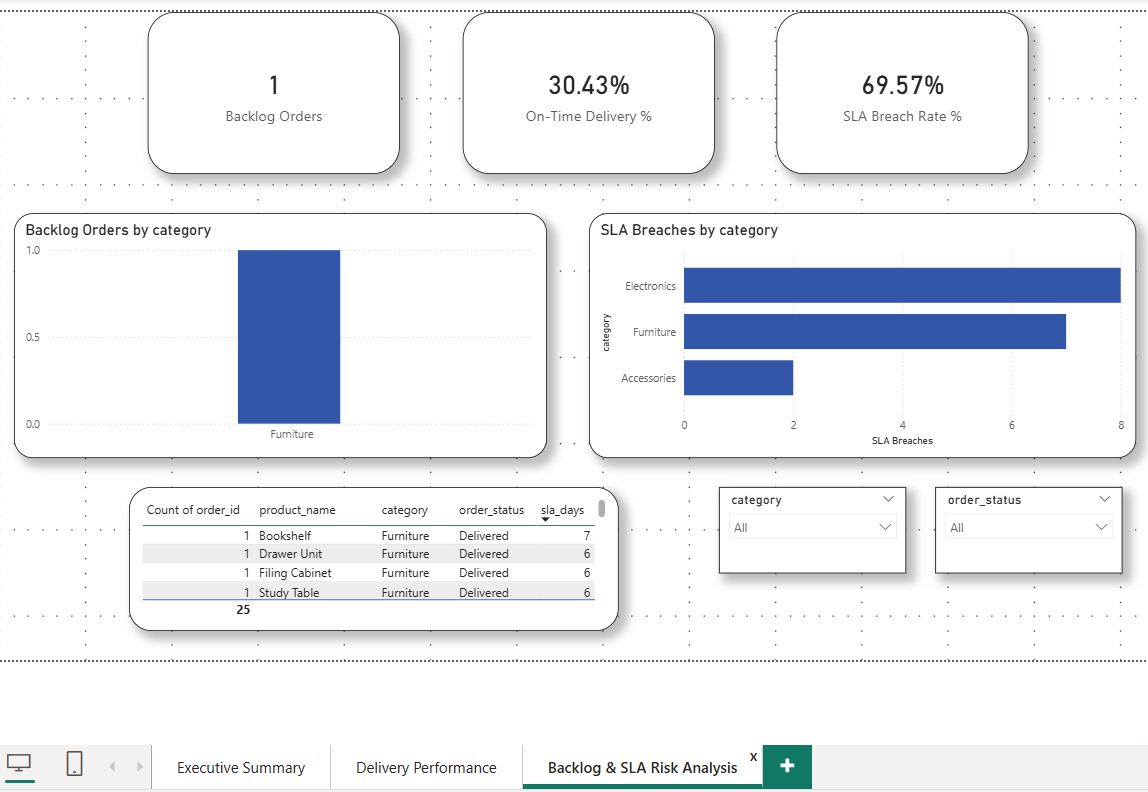

What the dashboard file says about the page in this screenshot:
{"tool":"powerbi","page":{"name":"Backlog & SLA Risk Analysis","canvas":[1280,720],"ordinal":2},"visuals":[{"type":"card","title":"Open Backlog Orders","fields":{"Values":["sample_orders.Backlog Orders"]},"box":[165.4,0,280,180],"z":0},{"type":"clusteredColumnChart","fields":{"Category":["products.category"],"Y":["sample_orders.Backlog Orders"]},"box":[16,224,592,272],"z":1000},{"type":"tableEx","fields":{"Values":["CountNonNull(sample_orders.order_id)","products.product_name","products.category","sample_orders.order_status","products.sla_days"]},"box":[144,528,544,160],"z":2000},{"type":"slicer","fields":{"Values":["products.category"]},"box":[800,528,208,96],"z":3000},{"type":"slicer","fields":{"Values":["sample_orders.order_status"]},"box":[1040,528,208,96],"z":4000},{"type":"clusteredBarChart","fields":{"Category":["products.category"],"Y":["products.SLA Breaches"]},"box":[656,224,608,272],"z":5000},{"type":"card","fields":{"Values":["sample_orders.SLA Breach Rate %"]},"box":[864,0,280,180],"z":6000},{"type":"card","fields":{"Values":["sample_orders.On-Time Delivery %"]},"box":[514.7,0,280,180],"z":7000}]}

Visuals, with their boxes in screenshot pixels (x1, y1, x2, y2):
"Open Backlog Orders" card: [x1=155, y1=15, x2=403, y2=174]
clusteredColumnChart - products.category x sample_orders.Backlog Orders: [x1=23, y1=213, x2=547, y2=454]
tableEx - CountNonNull(sample_orders.order_id) x products.product_name: [x1=136, y1=482, x2=617, y2=623]
slicer - products.category: [x1=717, y1=482, x2=901, y2=567]
slicer - sample_orders.order_status: [x1=929, y1=482, x2=1113, y2=567]
clusteredBarChart - products.category x products.SLA Breaches: [x1=589, y1=213, x2=1127, y2=454]
card - sample_orders.SLA Breach Rate %: [x1=773, y1=15, x2=1021, y2=174]
card - sample_orders.On-Time Delivery %: [x1=464, y1=15, x2=712, y2=174]
